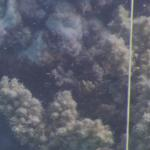dead: (6, 2, 123, 146)
